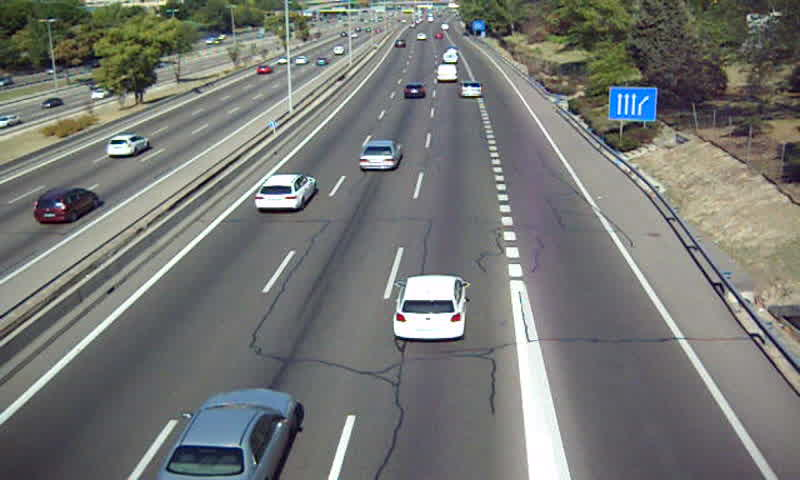car: (158, 389, 297, 480), (394, 276, 468, 340), (254, 174, 316, 210), (359, 140, 402, 172), (459, 80, 485, 100), (402, 83, 427, 100)
van: (435, 63, 458, 82), (445, 51, 459, 64)
